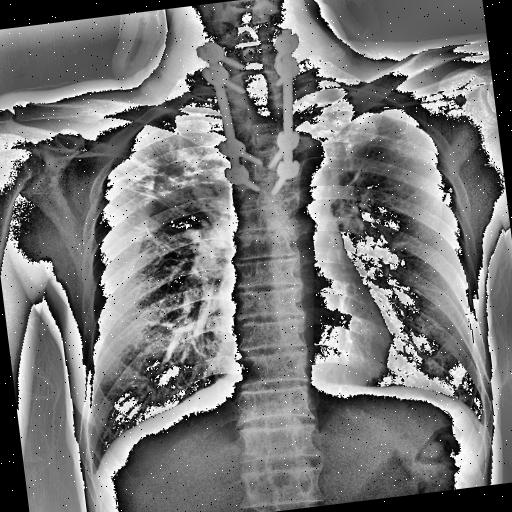13- Pulmonary fibrosis: (93, 94, 223, 248), (114, 140, 228, 264), (103, 141, 210, 223), (336, 114, 414, 180), (317, 125, 384, 201), (325, 100, 377, 191), (129, 220, 175, 256)
4- Consolidation: (93, 94, 223, 248)
9- Other lesion: (193, 22, 313, 197)
